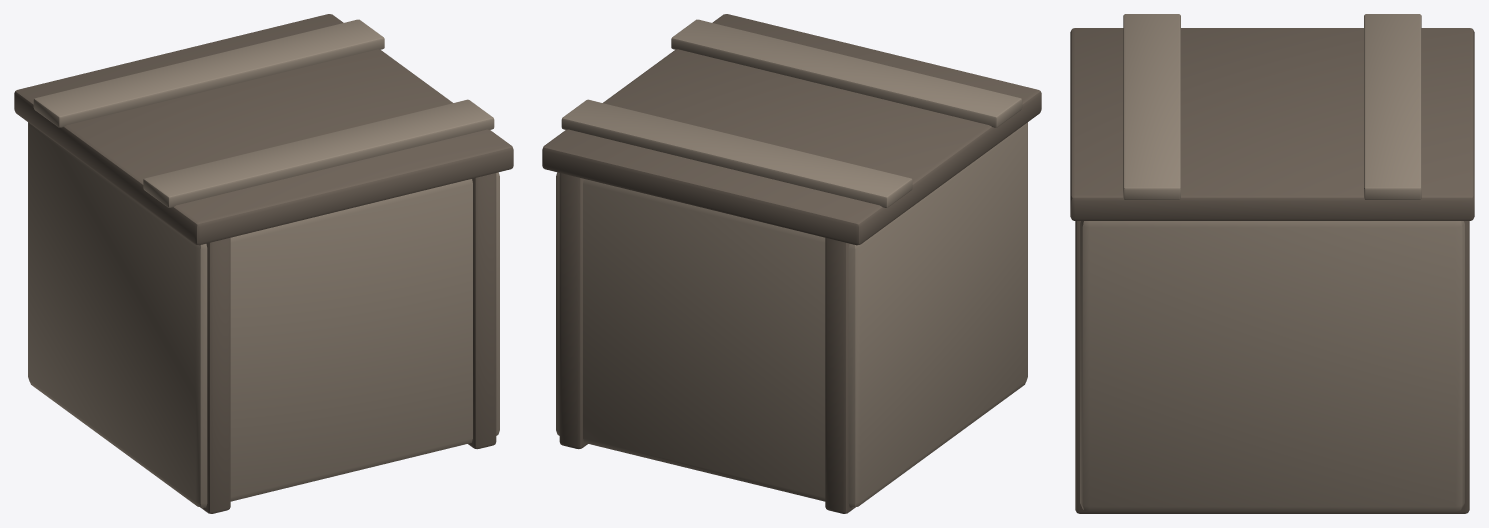
File: loot_crate.gltf
The picture shows the model from 3 angles, left to right: view 1: azimuth 30°, elevation 25°; view 2: azimuth 150°, elevation 25°; view 3: azimuth 270°, elevation 25°; orthographic projection. The views are drawn at different scales.
Parts seen in each view (by area): view 1: Body, Lid; view 2: Body, Lid; view 3: Body, Lid.
Part boxes in pixels (x1,y1,x2,y2): Body: (28, 122, 499, 513); Lid: (14, 14, 513, 245); Body: (556, 122, 1027, 513); Lid: (542, 14, 1041, 245); Body: (1075, 221, 1469, 513); Lid: (1070, 14, 1474, 220).
Size of the model in its own units: 0.86 by 0.775 by 0.84.
